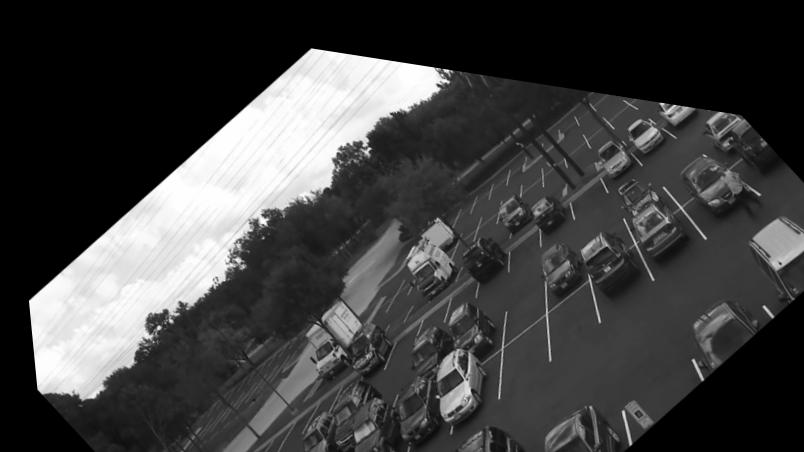empty: (609, 318, 691, 424), (499, 301, 548, 381), (483, 258, 537, 325), (544, 264, 588, 332), (566, 155, 608, 202), (651, 120, 696, 163), (381, 312, 412, 354), (252, 415, 286, 451), (412, 285, 444, 322), (582, 191, 616, 223), (508, 213, 534, 253), (278, 400, 307, 434), (606, 83, 640, 112), (383, 262, 409, 296), (304, 377, 332, 408), (442, 266, 469, 297), (565, 119, 591, 150), (587, 102, 615, 130), (540, 140, 564, 171), (374, 359, 400, 387), (539, 128, 563, 157), (572, 81, 597, 108), (579, 96, 607, 120), (599, 77, 627, 100), (471, 198, 494, 225), (449, 215, 471, 243), (561, 111, 583, 137), (519, 158, 541, 182), (519, 146, 539, 171), (455, 197, 475, 222), (476, 182, 496, 206), (559, 94, 579, 118), (499, 161, 517, 186), (506, 136, 521, 164), (588, 73, 614, 89), (451, 186, 469, 208), (488, 156, 503, 182), (471, 172, 485, 194), (481, 211, 503, 224), (629, 78, 650, 90), (542, 167, 558, 180), (643, 80, 658, 91)
occupied: (733, 186, 804, 279), (683, 268, 756, 349), (535, 377, 606, 452), (676, 124, 750, 194), (427, 333, 486, 412), (577, 210, 636, 284), (625, 174, 687, 244), (725, 91, 783, 153), (343, 386, 397, 452), (448, 410, 527, 452), (334, 311, 389, 370), (402, 223, 452, 287), (390, 363, 432, 438), (324, 369, 371, 427), (443, 286, 492, 338), (458, 221, 505, 273), (404, 312, 449, 365), (538, 226, 580, 281), (295, 401, 332, 452), (528, 177, 564, 219), (703, 88, 742, 126), (494, 177, 530, 217), (597, 119, 632, 159), (627, 97, 665, 133), (617, 160, 661, 190), (657, 81, 699, 108)
